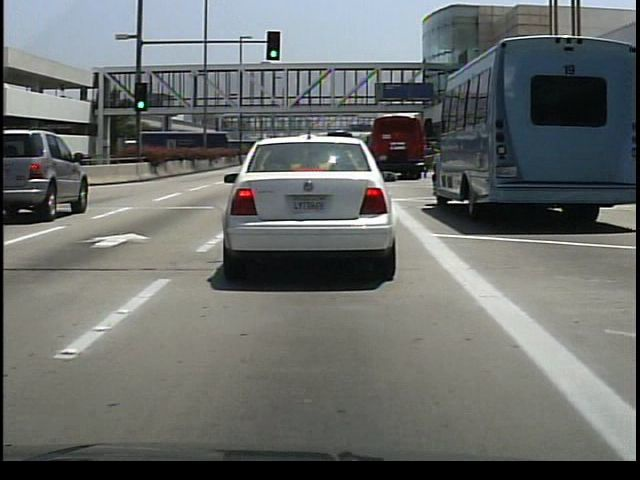person: (426, 137, 437, 177)
